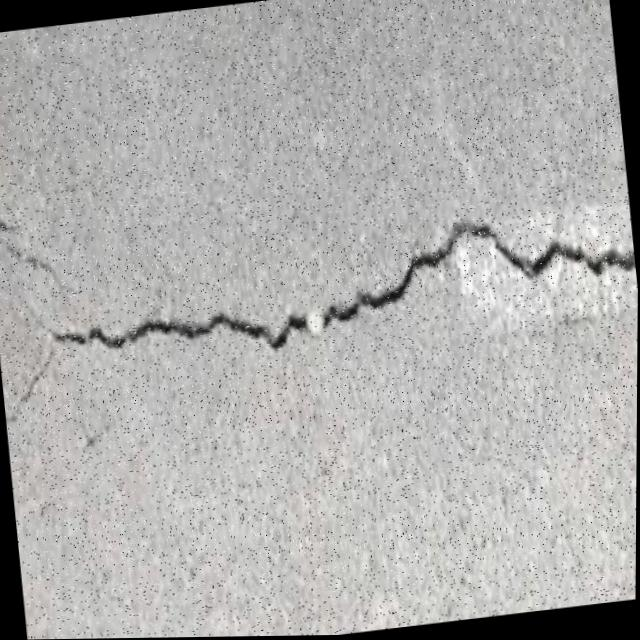Crack: (0, 122, 639, 452)
